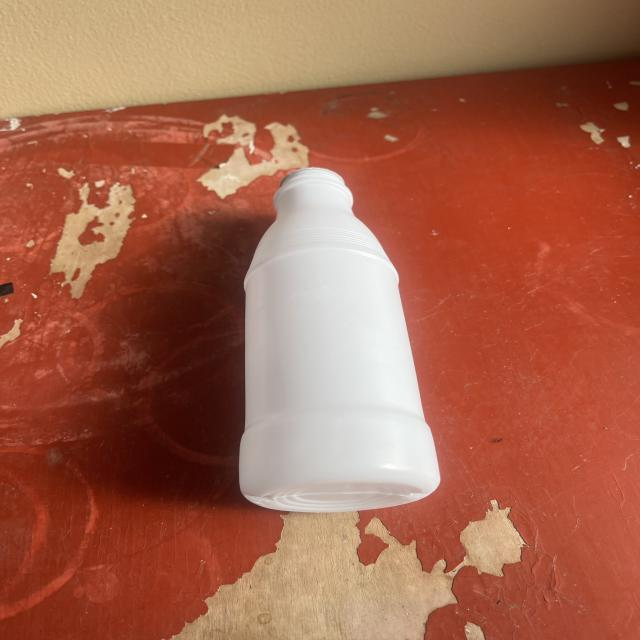HDPE_Bottle: (240, 168, 439, 512)
